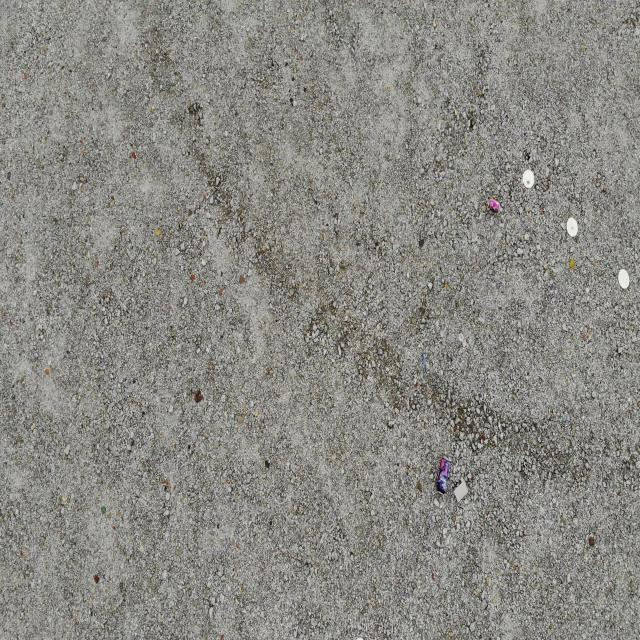rubbish: (435, 456, 451, 495), (452, 480, 469, 503), (486, 195, 503, 217)
